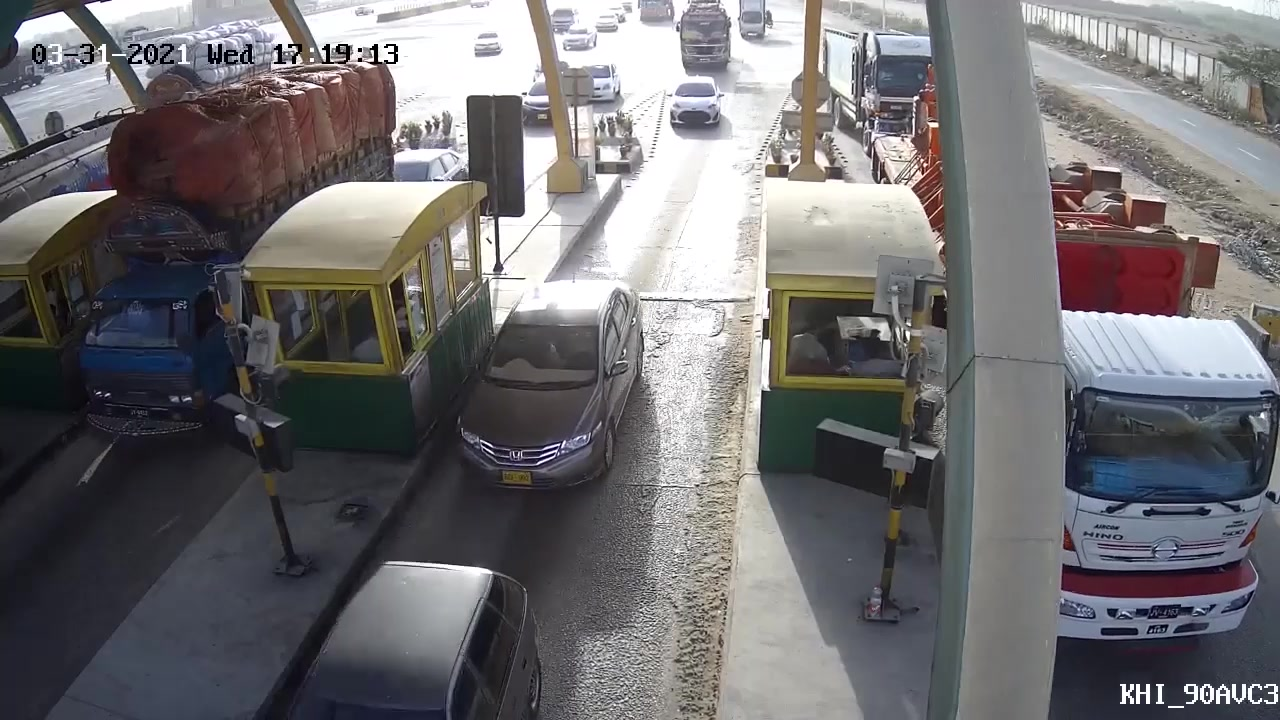F1: (441, 273, 656, 513)
